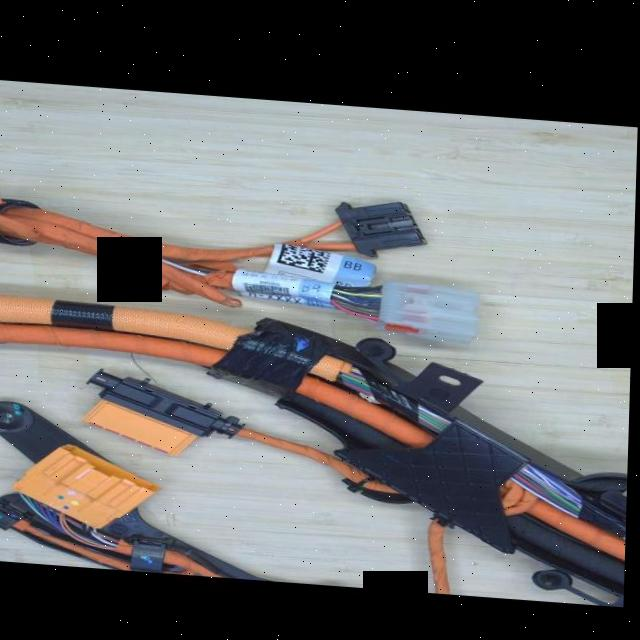connector: (13, 441, 164, 521), (378, 272, 479, 335), (334, 194, 426, 250)
